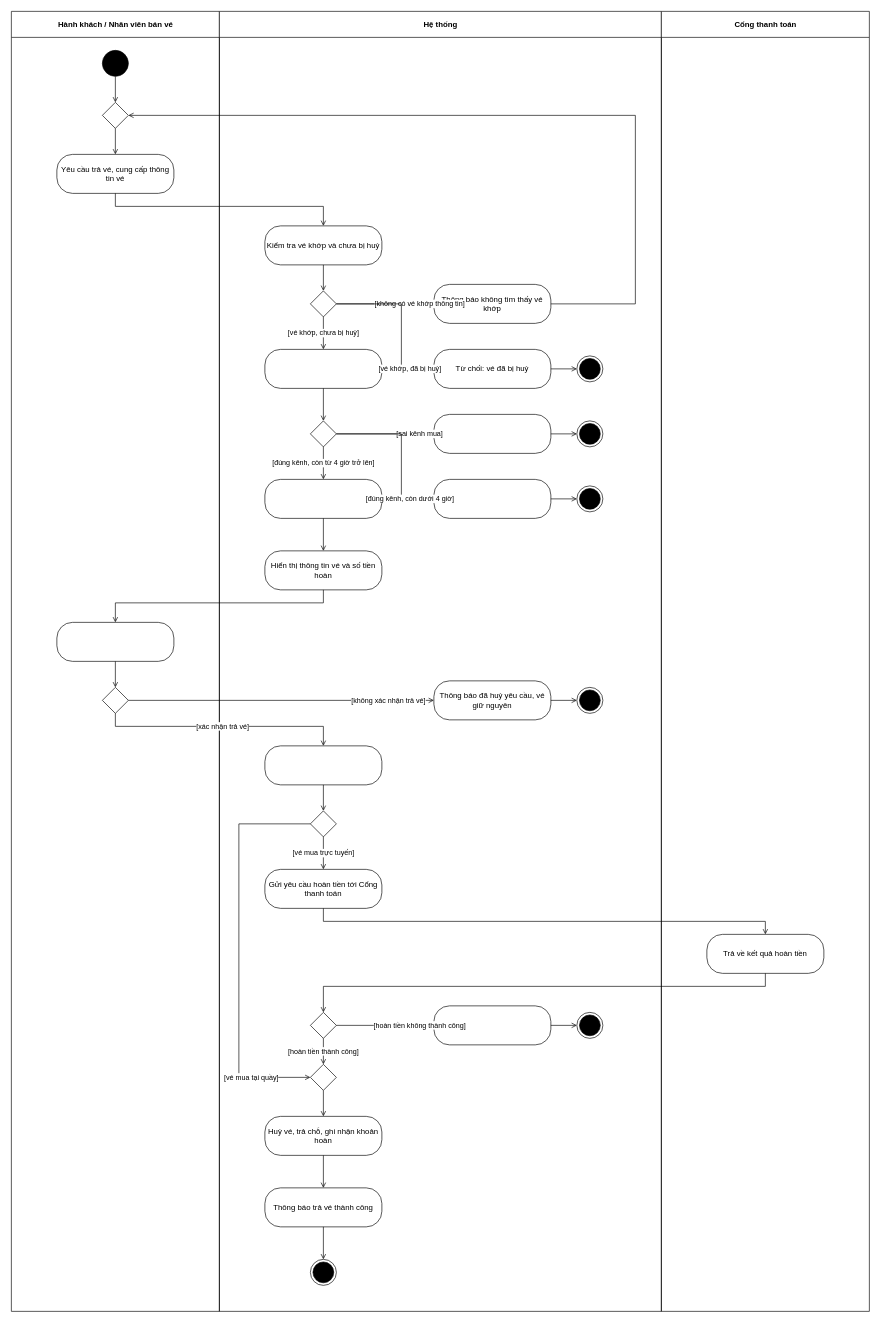
This 881x1323 diagram has some shape labels left out. The shapes that lost their labels are listed below. From the top down, each one's centre as x and y in pixels, then its label:
At [323,368]: "Kiểm tra kênh trả và mốc 4 giờ".
At [492,433]: "Từ chối: sai kênh mua (BR-11)".
At [323,498]: "Tính số tiền hoàn theo mức hoàn".
At [492,498]: "Từ chối: còn dưới 4 giờ (BR-12)".
At [115,641]: "Xác nhận trả vé".
At [323,765]: "Xác định hình thức hoàn theo kênh mua".
At [492,1025]: "Thông báo hoàn tiền không thành công".
